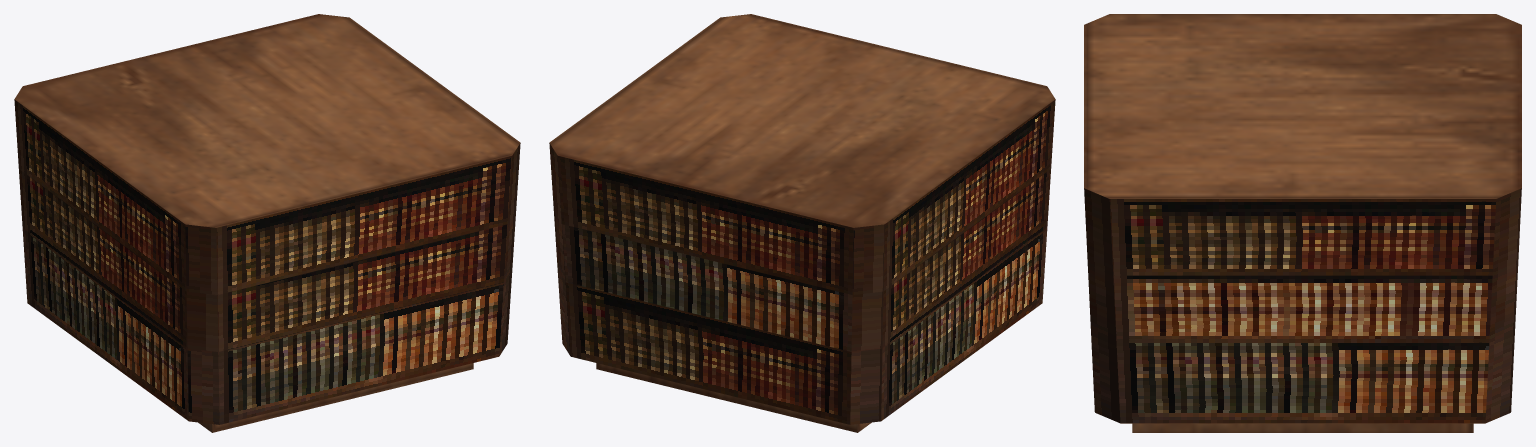
The model's file is SM_SYD_Bookshelf01.fbx.
3 renders of one model, left to right at view 1: azimuth 30°, elevation 25°; view 2: azimuth 150°, elevation 25°; view 3: azimuth 270°, elevation 25°, orthographic. The views are drawn at different scales.
Visible parts, largest first — view 1: SM_SYD_Bookshelf01; view 2: SM_SYD_Bookshelf01; view 3: SM_SYD_Bookshelf01.
Part boxes in pixels (x1,y1,x2,y2): SM_SYD_Bookshelf01: (14, 14, 520, 432); SM_SYD_Bookshelf01: (549, 14, 1055, 432); SM_SYD_Bookshelf01: (1084, 14, 1521, 432).
Bounding box in the file's own units: 147 × 94.38 × 147.
